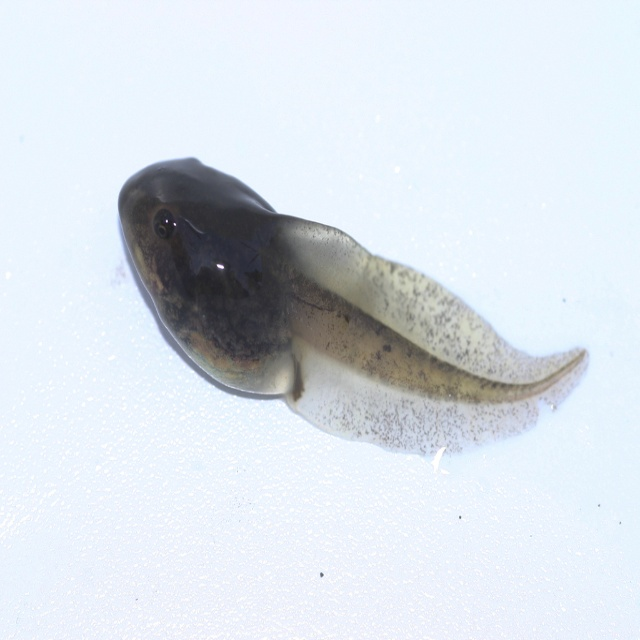Fish: (139, 165, 584, 472)
